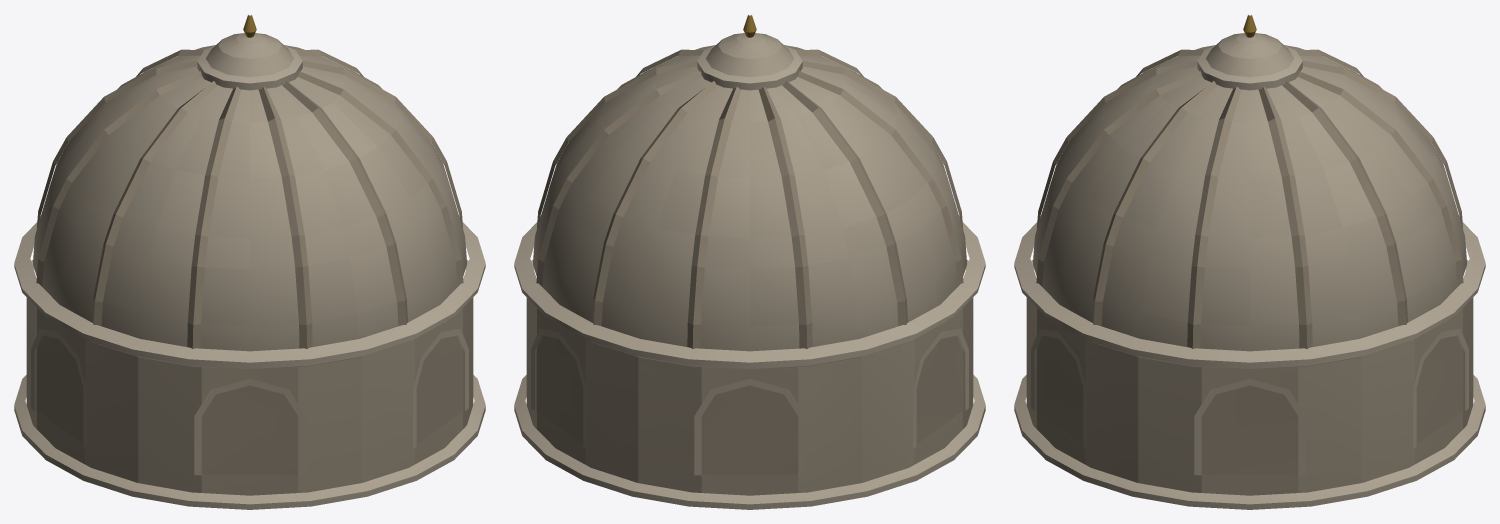
The model's file is dome.closed_12.stone.glb.
3 renders of one model, left to right at view 1: azimuth 30°, elevation 25°; view 2: azimuth 150°, elevation 25°; view 3: azimuth 270°, elevation 25°, orthographic.
Parts seen in each view (by area): view 1: dome_closed_12_stone; view 2: dome_closed_12_stone; view 3: dome_closed_12_stone.
Boxes of the visible parts, x1=… form: dome_closed_12_stone: x1=14, y1=15, x2=485, y2=509; dome_closed_12_stone: x1=514, y1=15, x2=985, y2=509; dome_closed_12_stone: x1=1014, y1=15, x2=1485, y2=509.
Size of what is drawn, in the model's own units: 7.6 by 7.03 by 7.6.
